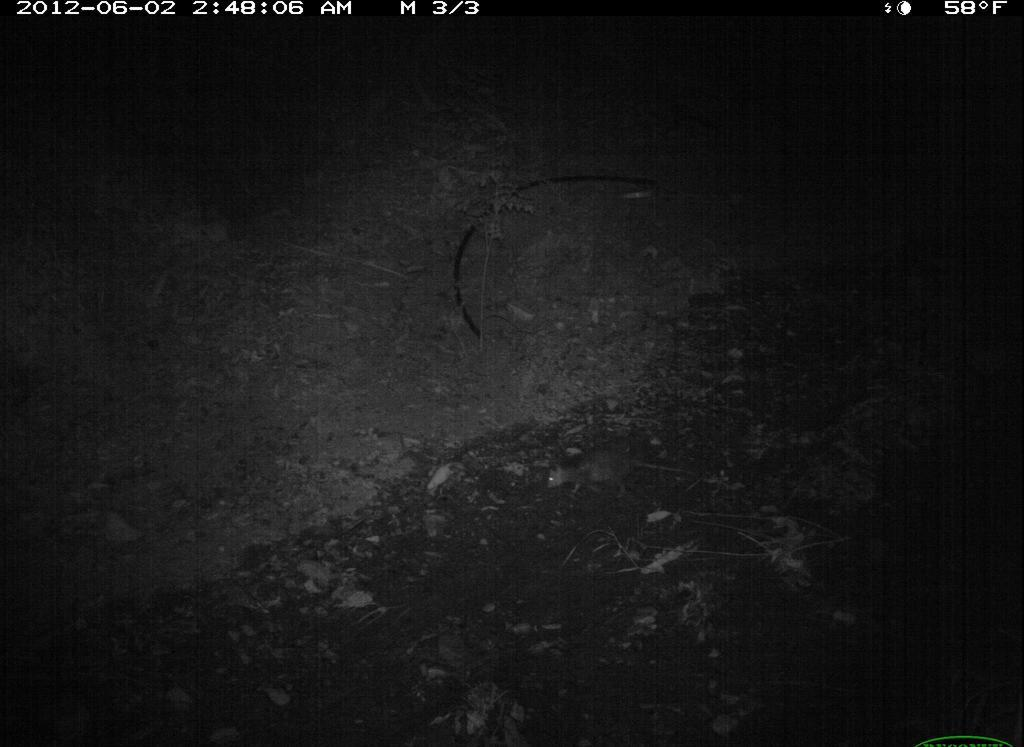opossum: (533, 442, 710, 501)
